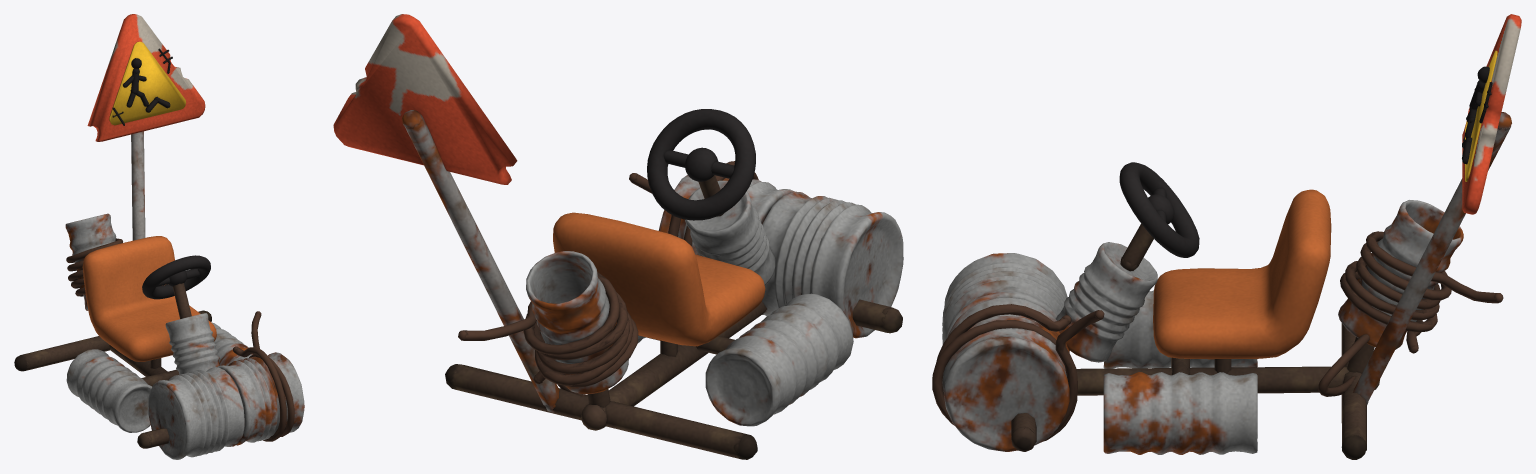
3 renders of one model, left to right at view 1: azimuth 30°, elevation 25°; view 2: azimuth 150°, elevation 25°; view 3: azimuth 270°, elevation 25°, orthographic. The views are drawn at different scales.
Parts seen in each view (by area): view 1: body, steering_wheel; view 2: body, steering_wheel; view 3: body, steering_wheel.
Boxes of the visible parts, x1=… form: body: x1=14, y1=14, x2=304, y2=459; steering_wheel: x1=142, y1=255, x2=210, y2=299; body: x1=333, y1=14, x2=903, y2=459; steering_wheel: x1=647, y1=109, x2=755, y2=220; body: x1=932, y1=14, x2=1521, y2=459; steering_wheel: x1=1119, y1=162, x2=1199, y2=257.
Size of the model in its own units: 0.9519 by 1.19 by 1.39.
1 material, 1 textured.
